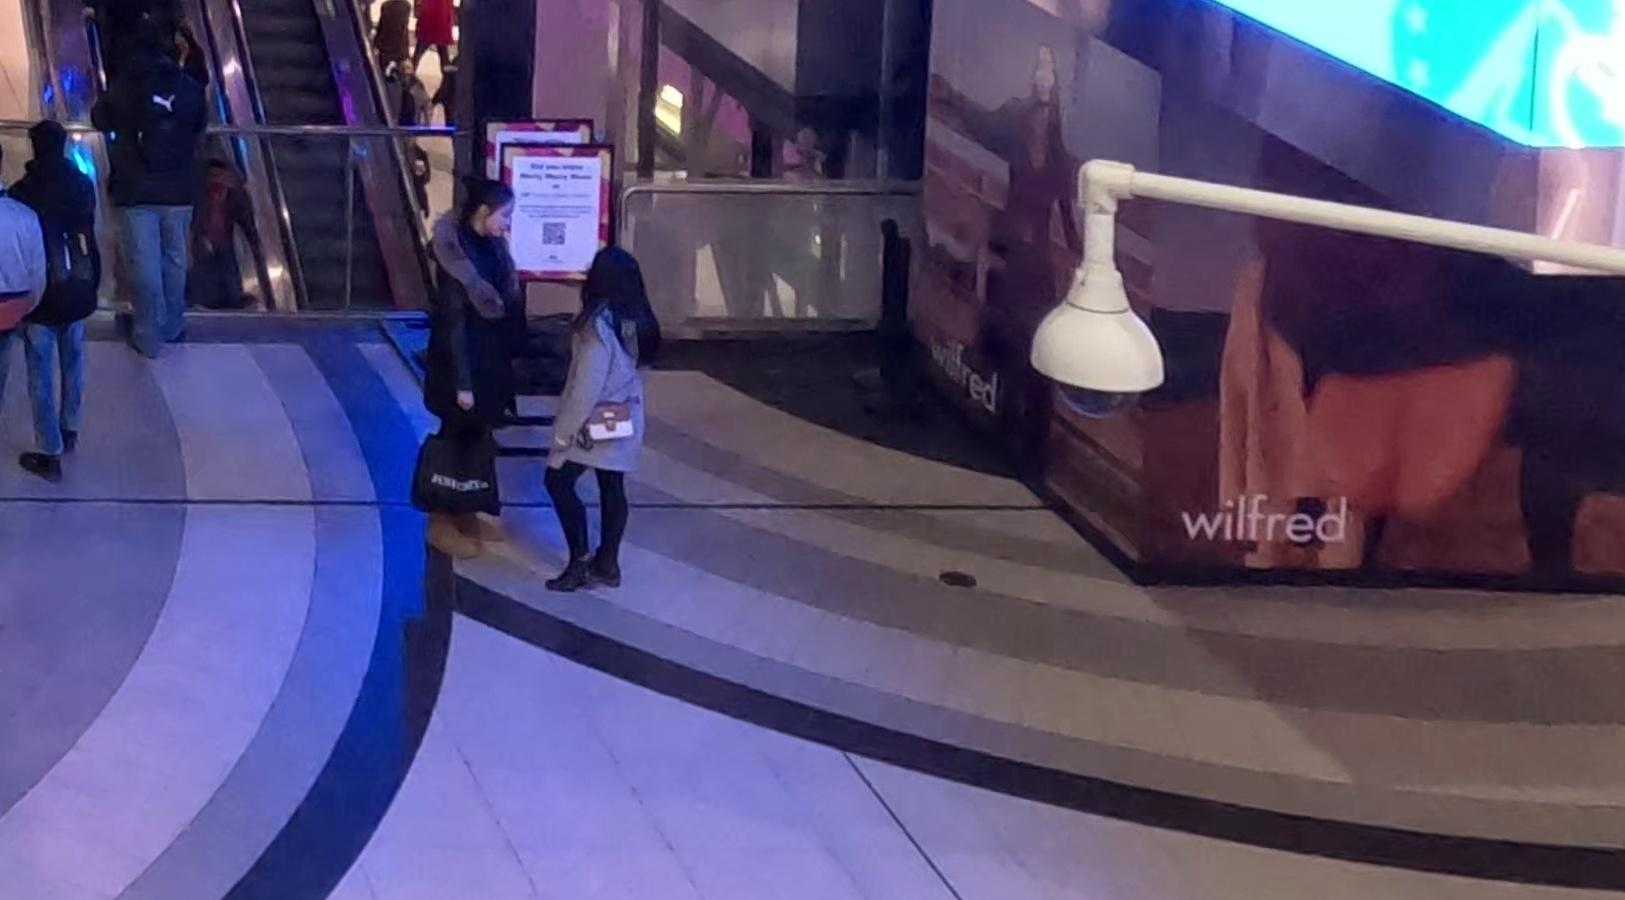person: (425, 159, 550, 587), (526, 226, 660, 608), (3, 105, 114, 490)
